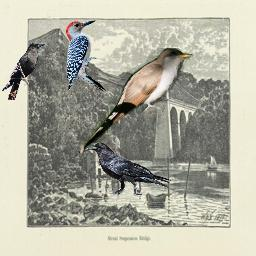Crow: (85, 142, 175, 197), (2, 42, 45, 100)
Cuckoo: (79, 48, 194, 153)
Woodpecker: (62, 17, 110, 98)
